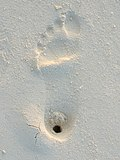human_footprint: (31, 11, 81, 140)
